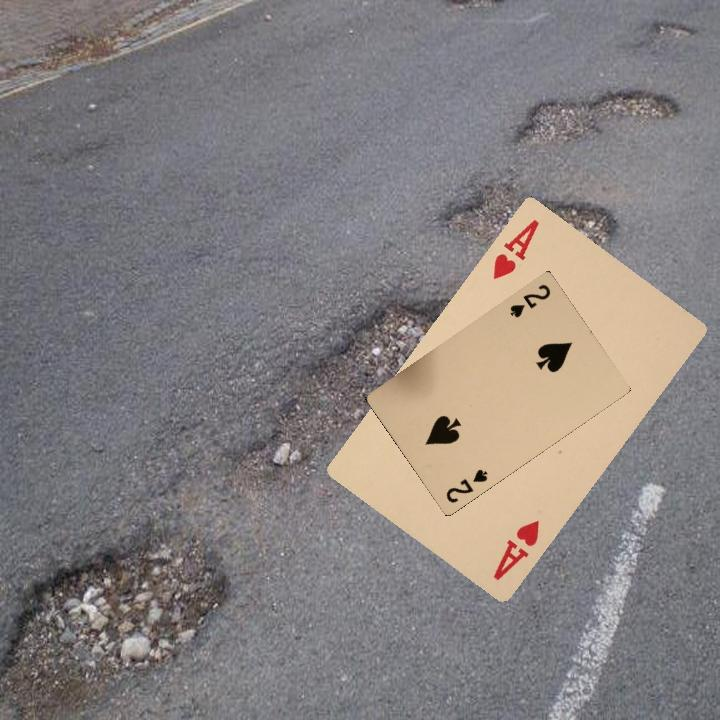2s: (442, 465, 490, 506), (506, 280, 553, 320)
Ah: (488, 215, 542, 282), (489, 516, 542, 584)
